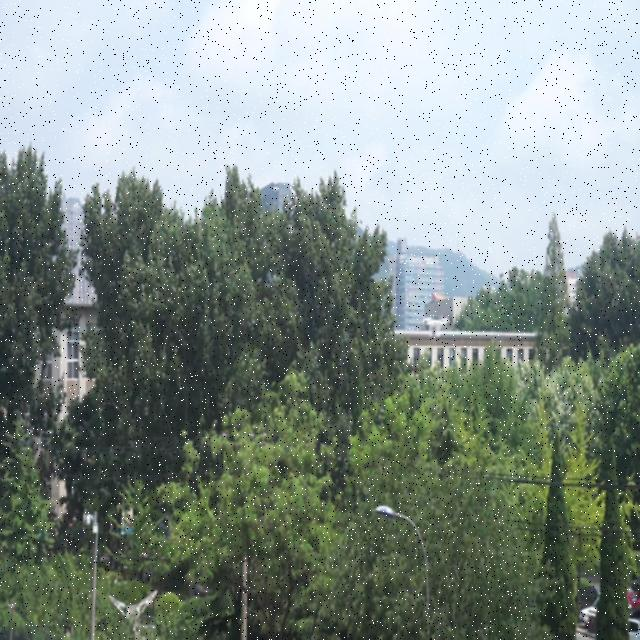UAV: (424, 318, 449, 337)
